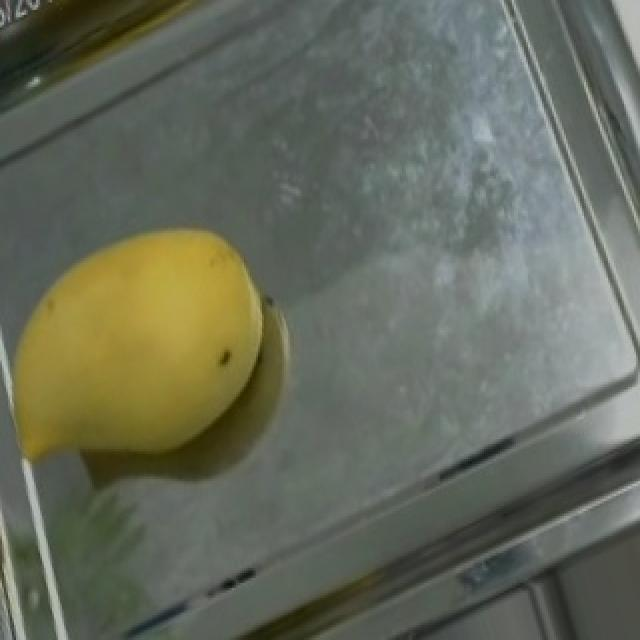fruit: (0, 168, 338, 508)
